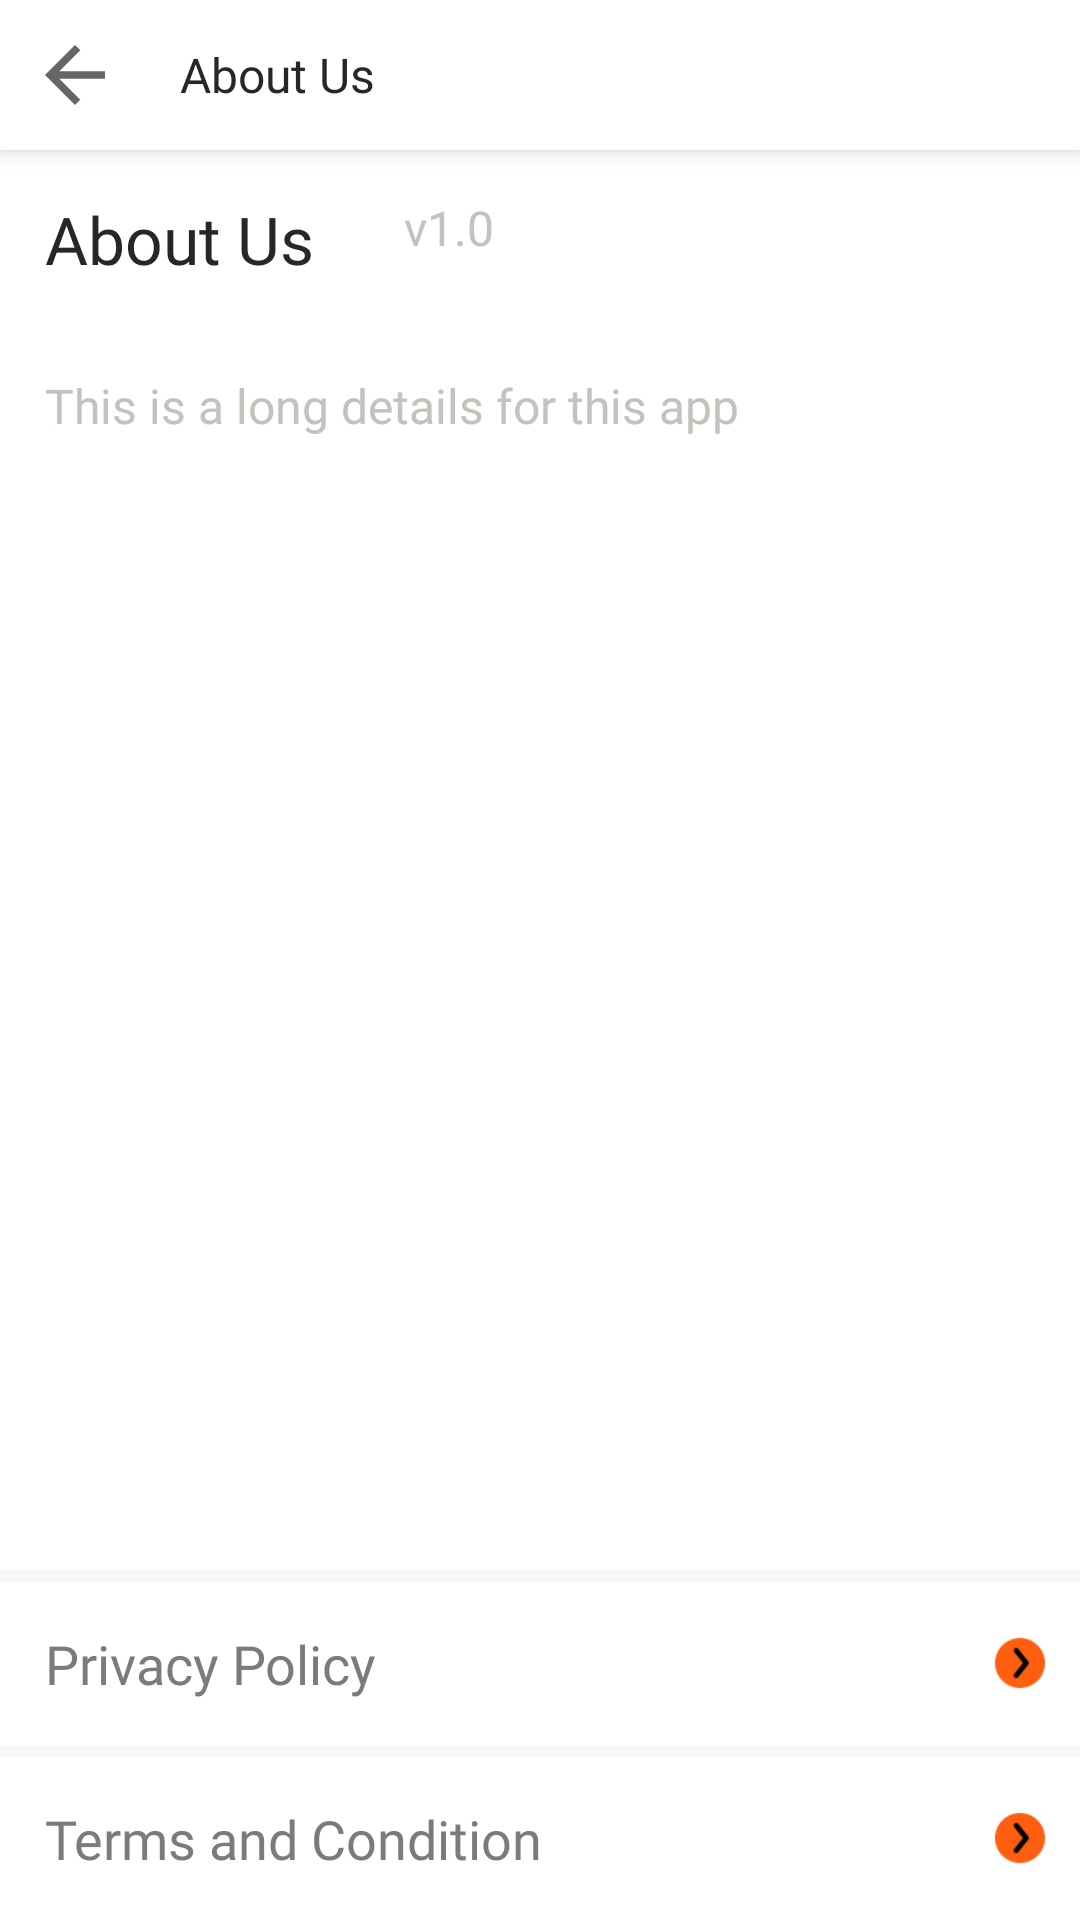

Named icons in this screenshot (1080 × 1920) and their bounding boxes, (x1, y1, x2, y2):
back: (45, 45, 105, 105)
next: (995, 1638, 1045, 1688), (995, 1813, 1045, 1863)
